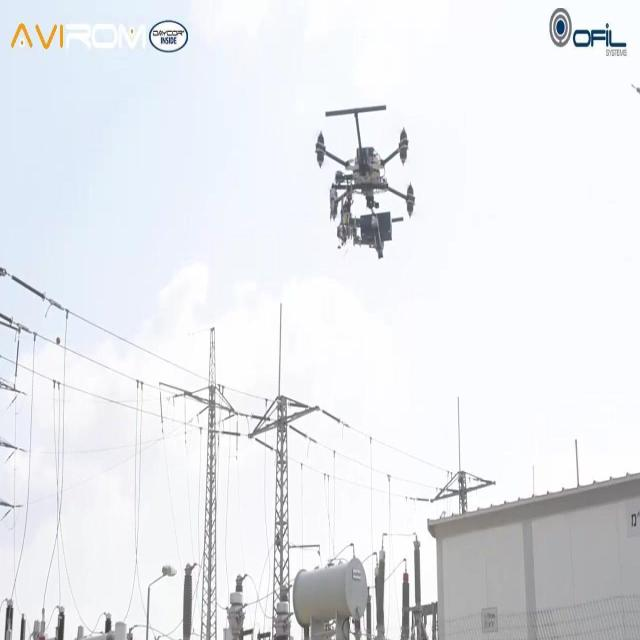drone: (313, 102, 416, 262)
